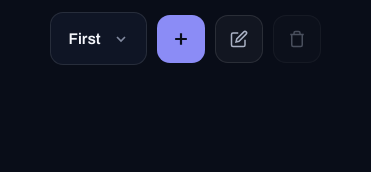
Test case: MatrixSelector › rename button shows inline input
Click the button with test id "rename-matrix-button": (238, 39) [214,15,262,63]
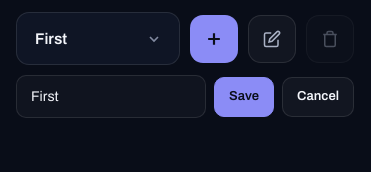
Expected: the element with test id "rename-row" is shown, [16,75,354,118]
Expected: the field with test id "rename-input" holds "First", [16,75,206,118]
